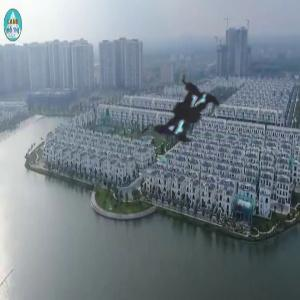drone: (99, 28, 266, 195)
